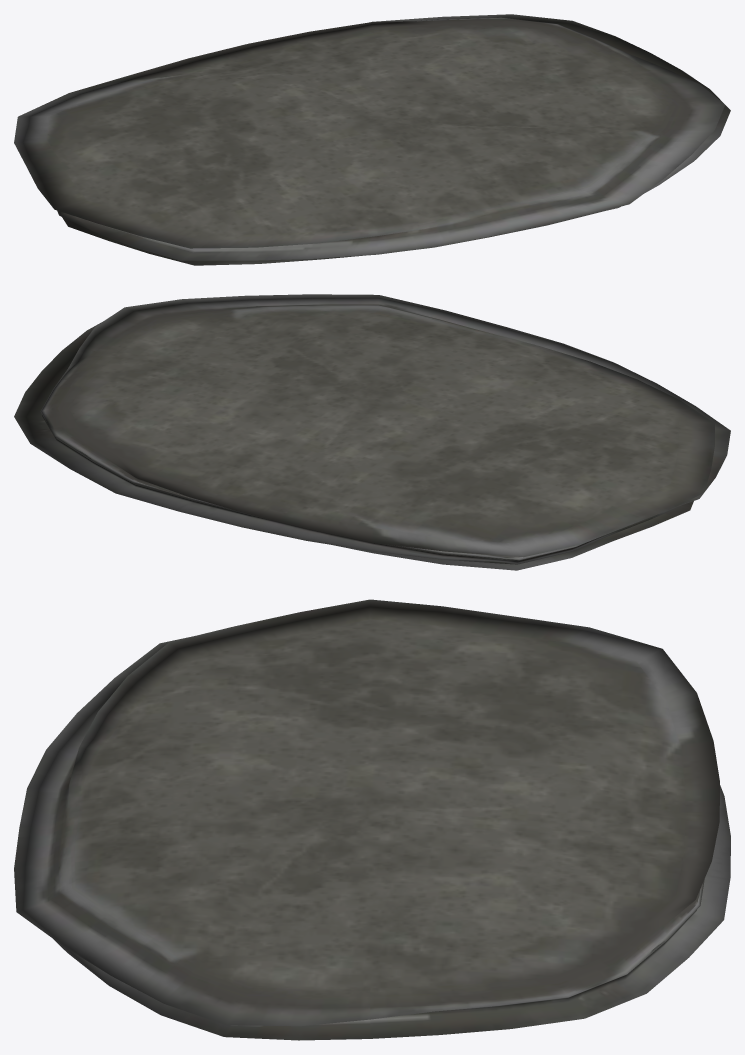
The model's file is thin_shale_02.glb.
3 views of the same model, one above another, from view 1: azimuth 30°, elevation 25°; view 2: azimuth 150°, elevation 25°; view 3: azimuth 270°, elevation 25° (orthographic). The views are drawn at different scales.
Parts seen in each view (by area): view 1: thin_shale_02; view 2: thin_shale_02; view 3: thin_shale_02.
Boxes of the visible parts, x1,y1,x2,y2 form: thin_shale_02: (14,14,730,265); thin_shale_02: (14,294,730,570); thin_shale_02: (14,599,730,1040).
Size of the model in its own units: 0.086 by 0.00535 by 0.0617.
Materials: 1 (1 with a texture image).
